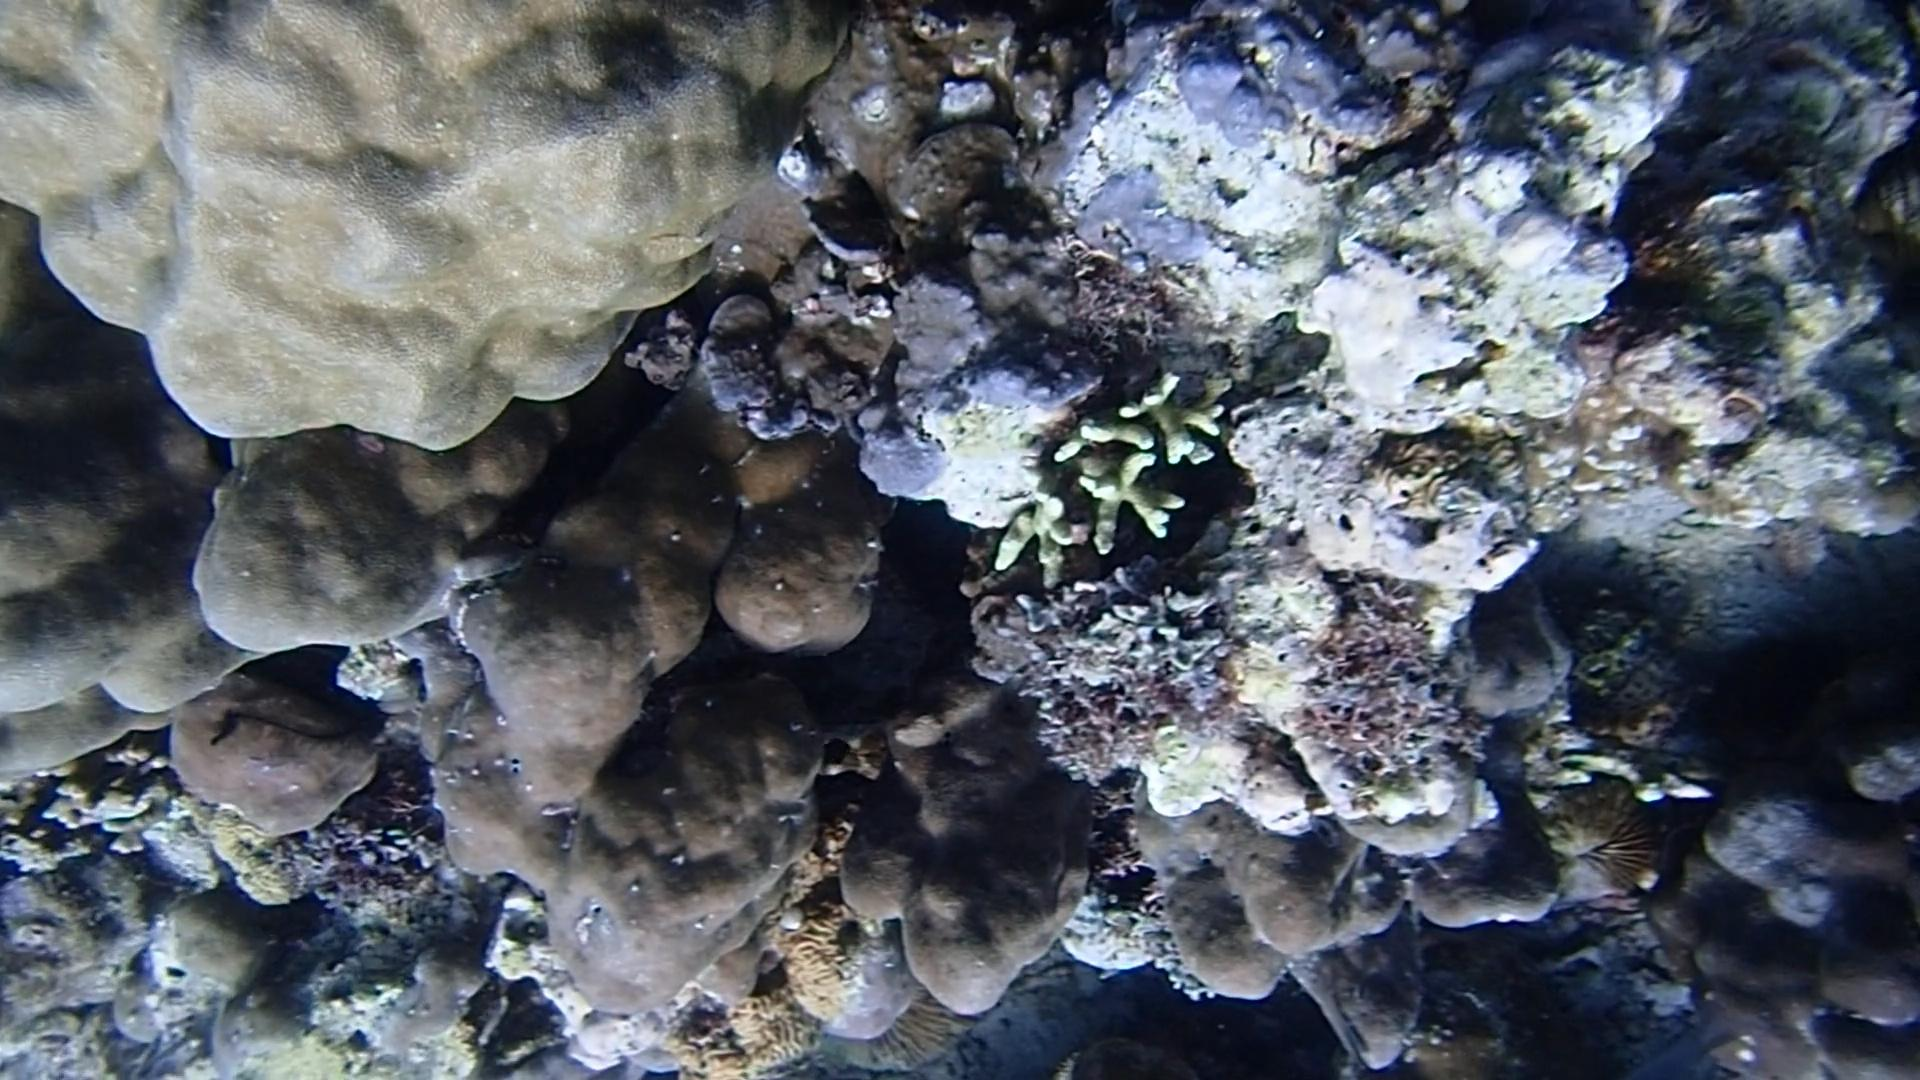Blue Fish Two: (1619, 982, 1758, 1080)
